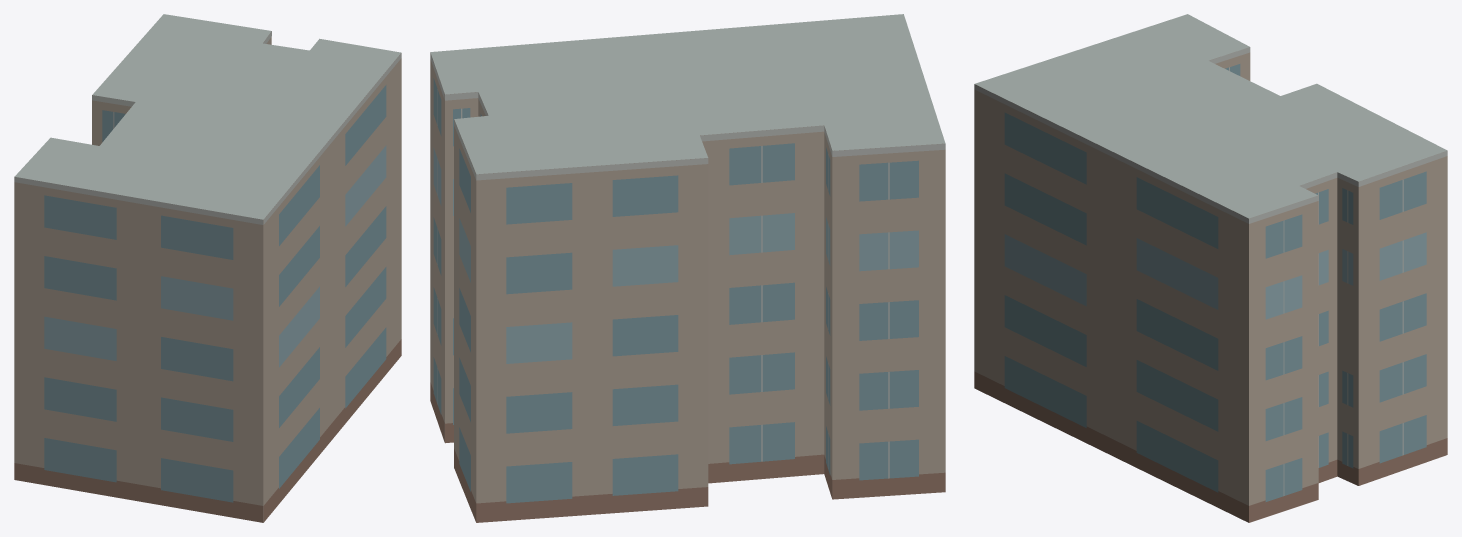
File: survey-upis-32777096.glb
3 views of the same model, side by side, from view 1: azimuth 30°, elevation 25°; view 2: azimuth 150°, elevation 25°; view 3: azimuth 270°, elevation 25° (orthographic). The views are drawn at different scales.
Visible parts, largest first — view 1: survey-upis-32777096.tmp; view 2: survey-upis-32777096.tmp; view 3: survey-upis-32777096.tmp.
Boxes of the visible parts, left/top/right/bottom form: survey-upis-32777096.tmp: left=14, top=14, right=401, bottom=522; survey-upis-32777096.tmp: left=430, top=14, right=945, bottom=522; survey-upis-32777096.tmp: left=974, top=14, right=1447, bottom=522.
Bounding box in the file's own units: 19.76 × 13.7 × 19.32.
